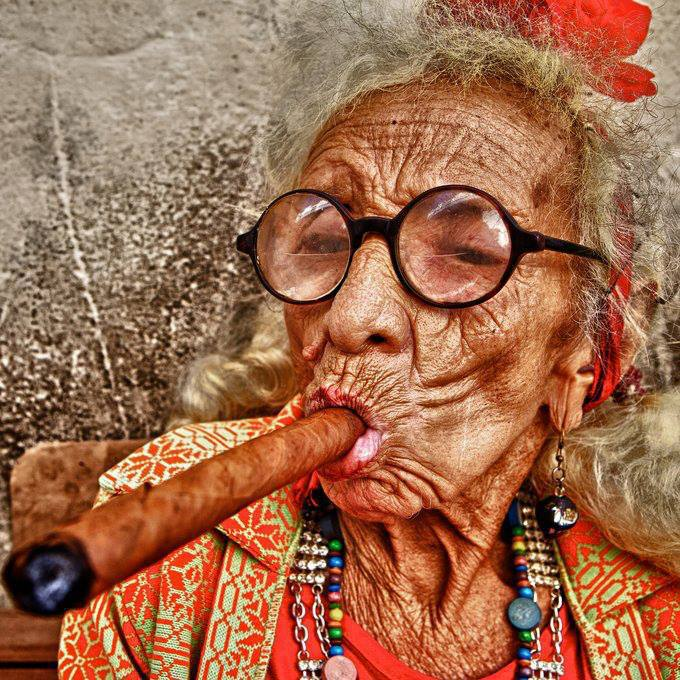cigarette: (8, 404, 370, 608)
